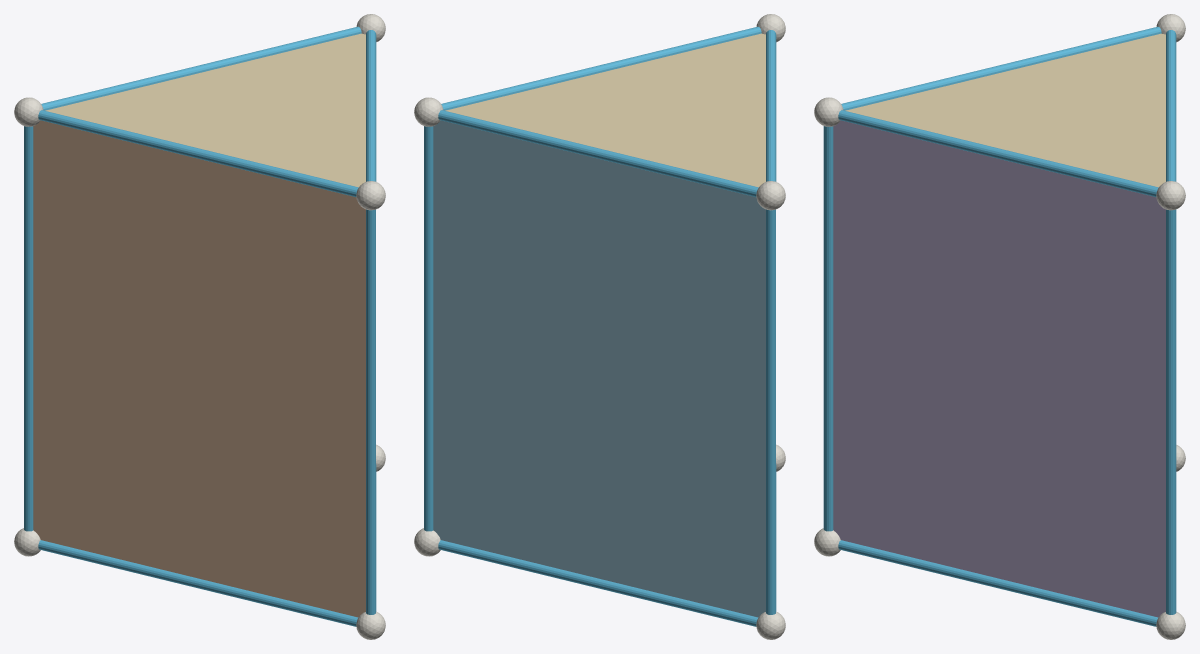
The model's file is 03_prisma_rusuk_pastel.glb.
3 renders of one model, left to right at view 1: azimuth 30°, elevation 25°; view 2: azimuth 150°, elevation 25°; view 3: azimuth 270°, elevation 25°, orthographic.
Visible parts, largest first — view 1: Sisi_Tegak_03, Tutup_Segitiga, Rusuk_07, Rusuk_09, Rusuk_06, Rusuk_03, Rusuk_04, Rusuk_05, Titik_Sudut_06, Titik_Sudut_04, Titik_Sudut_03, Titik_Sudut_01; view 2: Sisi_Tegak_01, Tutup_Segitiga, Rusuk_08, Rusuk_07, Rusuk_04, Rusuk_01, Rusuk_05, Rusuk_06, Titik_Sudut_04, Titik_Sudut_01, Titik_Sudut_05, Titik_Sudut_02; view 3: Sisi_Tegak_02, Tutup_Segitiga, Rusuk_09, Rusuk_08, Rusuk_05, Rusuk_02, Rusuk_06, Rusuk_04, Titik_Sudut_05, Titik_Sudut_02, Titik_Sudut_06, Titik_Sudut_03.
Boxes of the visible parts, x1,y1,x2,y2 form: Sisi_Tegak_03: (33,120,365,617); Tutup_Segitiga: (45,33,365,187); Rusuk_07: (24,126,33,531); Rusuk_09: (366,209,375,614); Rusuk_06: (38,110,358,196); Rusuk_03: (38,540,358,626); Rusuk_04: (41,26,361,110); Rusuk_05: (366,30,376,181); Titik_Sudut_06: (356,181,385,210); Titik_Sudut_04: (14,97,43,126); Titik_Sudut_03: (356,611,385,639); Titik_Sudut_01: (14,528,40,556); Sisi_Tegak_01: (433,120,765,617); Tutup_Segitiga: (445,33,765,187); Rusuk_08: (424,126,433,531); Rusuk_07: (766,209,775,614); Rusuk_04: (438,110,758,196); Rusuk_01: (438,540,758,626); Rusuk_05: (441,26,761,110); Rusuk_06: (766,30,776,181); Titik_Sudut_04: (756,181,785,210); Titik_Sudut_01: (756,611,785,639); Titik_Sudut_05: (414,97,443,126); Titik_Sudut_02: (414,528,440,556); Sisi_Tegak_02: (833,120,1165,617); Tutup_Segitiga: (845,33,1165,187); Rusuk_09: (823,126,833,531); Rusuk_08: (1166,209,1176,614); Rusuk_05: (838,110,1158,196); Rusuk_02: (838,540,1158,626); Rusuk_06: (841,26,1161,110); Rusuk_04: (1166,30,1176,181); Titik_Sudut_05: (1156,181,1185,210); Titik_Sudut_02: (1156,611,1185,639); Titik_Sudut_06: (814,97,843,126); Titik_Sudut_03: (814,528,840,556).
Size of the model in its own units: 2.15 by 2.55 by 1.88.
